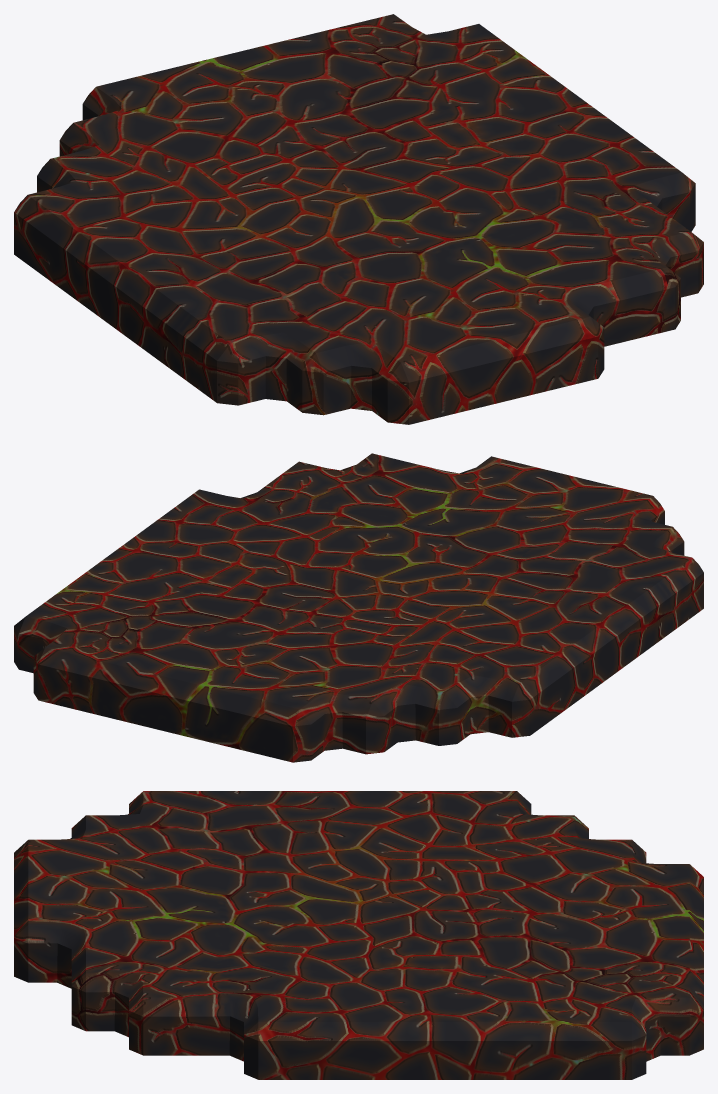
Rendered from IslandLarge.fbx.
3 renders of one model, top to bottom at view 1: azimuth 30°, elevation 25°; view 2: azimuth 150°, elevation 25°; view 3: azimuth 270°, elevation 25°, orthographic. The views are drawn at different scales.
Parts seen in each view (by area): view 1: Island; view 2: Island; view 3: Island.
Boxes of the visible parts, x1,y1,x2,y2 form: Island: (14, 14, 703, 424); Island: (14, 453, 703, 762); Island: (14, 791, 703, 1079).
Bounding box in the file's own units: 1043 × 104 × 1251.
